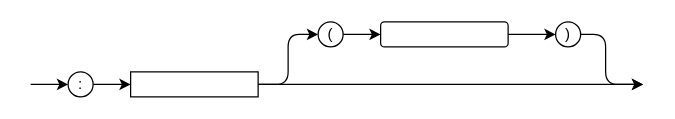
Some shapes in this 675 by 119 pixel diagram are drawn without their labels. Here are the shapes that lost their labels. From the top down, the centre of each, then its label:
At point 443,34: "glue".
At point 193,84: "join".
